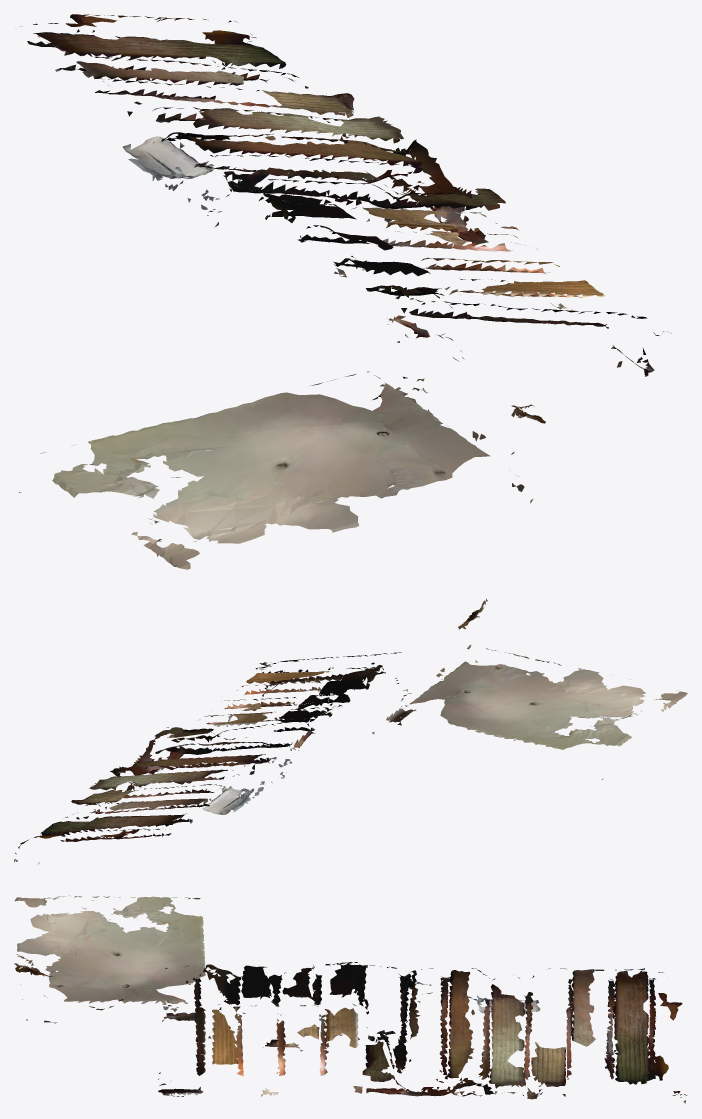
File: esc_alta_techo_06.glb
3 renders of one model, top to bottom at view 1: azimuth 30°, elevation 25°; view 2: azimuth 150°, elevation 25°; view 3: azimuth 270°, elevation 25°, orthographic. The views are drawn at different scales.
Parts seen in each view (by area): view 1: techo_Salon_y_porche_6_GLTF_3, techo_Salon_y_porche_6_GLTF_5, techo_Salon_y_porche_6_GLTF_1, techo_Salon_y_porche_6_GLTF_8, techo_Salon_y_porche_6_GLTF_9, techo_Salon_y_porche_6_GLTF_12, techo_Salon_y_porche_6_GLTF_10, techo_Salon_y_porche_6_GLTF_11, techo_Salon_y_porche_6_GLTF_13, techo_Salon_y_porche_6_GLTF_4, techo_Salon_y_porche_6_GLTF_6, techo_Salon_y_porche_6_GLTF (+2 smaller); view 2: techo_Salon_y_porche_6_GLTF_3, techo_Salon_y_porche_6_GLTF_5, techo_Salon_y_porche_6_GLTF_8, techo_Salon_y_porche_6_GLTF_1, techo_Salon_y_porche_6_GLTF_9, techo_Salon_y_porche_6_GLTF_12, techo_Salon_y_porche_6_GLTF_10, techo_Salon_y_porche_6_GLTF_13, techo_Salon_y_porche_6_GLTF_11, techo_Salon_y_porche_6_GLTF_4, techo_Salon_y_porche_6_GLTF, techo_Salon_y_porche_6_GLTF_6 (+1 smaller); view 3: techo_Salon_y_porche_6_GLTF_9, techo_Salon_y_porche_6_GLTF_3, techo_Salon_y_porche_6_GLTF_8, techo_Salon_y_porche_6_GLTF_5, techo_Salon_y_porche_6_GLTF_1, techo_Salon_y_porche_6_GLTF_12, techo_Salon_y_porche_6_GLTF_10, techo_Salon_y_porche_6_GLTF_4, techo_Salon_y_porche_6_GLTF_13, techo_Salon_y_porche_6_GLTF_11, techo_Salon_y_porche_6_GLTF_6, techo_Salon_y_porche_6_GLTF (+2 smaller).
Boxes of the visible parts, bbox=[...] form: techo_Salon_y_porche_6_GLTF_3: bbox=[33, 23, 647, 543]; techo_Salon_y_porche_6_GLTF_5: bbox=[128, 69, 640, 500]; techo_Salon_y_porche_6_GLTF_1: bbox=[88, 86, 645, 459]; techo_Salon_y_porche_6_GLTF_8: bbox=[21, 26, 651, 501]; techo_Salon_y_porche_6_GLTF_9: bbox=[30, 16, 546, 453]; techo_Salon_y_porche_6_GLTF_12: bbox=[27, 29, 576, 491]; techo_Salon_y_porche_6_GLTF_10: bbox=[19, 14, 575, 492]; techo_Salon_y_porche_6_GLTF_11: bbox=[57, 55, 671, 411]; techo_Salon_y_porche_6_GLTF_13: bbox=[127, 60, 624, 503]; techo_Salon_y_porche_6_GLTF_4: bbox=[92, 113, 506, 569]; techo_Salon_y_porche_6_GLTF_6: bbox=[387, 149, 654, 476]; techo_Salon_y_porche_6_GLTF: bbox=[113, 136, 604, 552]; techo_Salon_y_porche_6_GLTF_3: bbox=[60, 598, 645, 841]; techo_Salon_y_porche_6_GLTF_5: bbox=[73, 652, 572, 819]; techo_Salon_y_porche_6_GLTF_8: bbox=[109, 672, 677, 825]; techo_Salon_y_porche_6_GLTF_1: bbox=[104, 666, 570, 811]; techo_Salon_y_porche_6_GLTF_9: bbox=[20, 667, 442, 845]; techo_Salon_y_porche_6_GLTF_12: bbox=[33, 622, 471, 841]; techo_Salon_y_porche_6_GLTF_10: bbox=[14, 661, 603, 861]; techo_Salon_y_porche_6_GLTF_13: bbox=[38, 660, 530, 863]; techo_Salon_y_porche_6_GLTF_11: bbox=[106, 662, 406, 822]; techo_Salon_y_porche_6_GLTF_4: bbox=[68, 655, 687, 832]; techo_Salon_y_porche_6_GLTF: bbox=[199, 661, 674, 764]; techo_Salon_y_porche_6_GLTF_6: bbox=[107, 648, 510, 803]; techo_Salon_y_porche_6_GLTF_9: bbox=[172, 897, 654, 1084]; techo_Salon_y_porche_6_GLTF_3: bbox=[16, 896, 655, 1076]; techo_Salon_y_porche_6_GLTF_8: bbox=[82, 921, 663, 1095]; techo_Salon_y_porche_6_GLTF_5: bbox=[45, 943, 613, 1093]; techo_Salon_y_porche_6_GLTF_1: bbox=[142, 915, 571, 1096]; techo_Salon_y_porche_6_GLTF_12: bbox=[23, 957, 668, 1096]; techo_Salon_y_porche_6_GLTF_10: bbox=[49, 962, 687, 1103]; techo_Salon_y_porche_6_GLTF_4: bbox=[14, 897, 525, 1086]; techo_Salon_y_porche_6_GLTF_13: bbox=[26, 965, 680, 1096]; techo_Salon_y_porche_6_GLTF_11: bbox=[162, 969, 614, 1096]; techo_Salon_y_porche_6_GLTF_6: bbox=[22, 964, 490, 1096]; techo_Salon_y_porche_6_GLTF: bbox=[45, 895, 474, 1064].
Bounding box in the file's own units: 9.16 × 1.65 × 13.97.
Materials: 14 (14 with a texture image).
